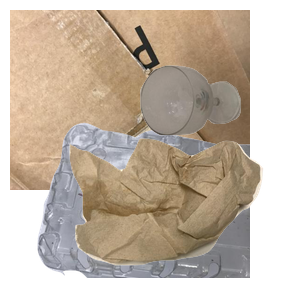cardboard: (10, 10, 250, 190)
glass: (138, 63, 300, 191)
plastic: (35, 120, 275, 300)
trash: (67, 136, 300, 300)
